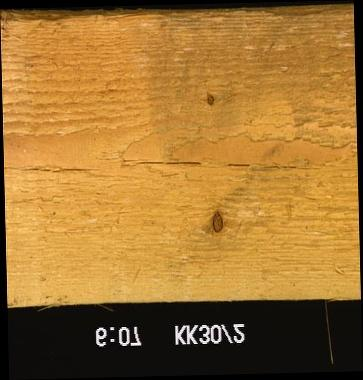dry_knot: (210, 207, 224, 233)
split: (126, 159, 200, 168), (50, 165, 98, 175), (225, 161, 248, 169)
wave: (0, 6, 100, 22)
